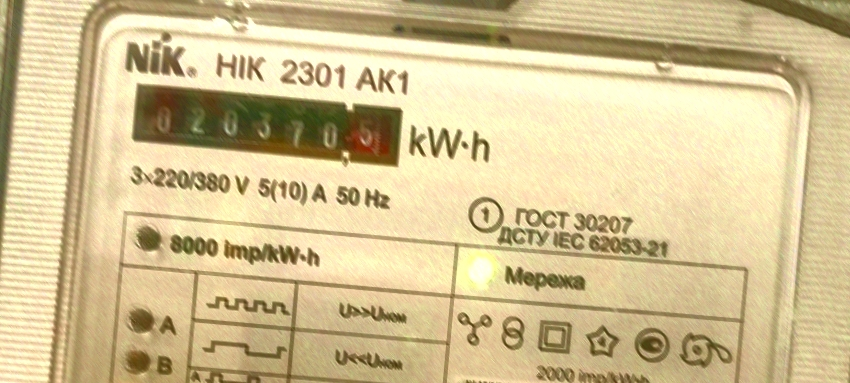0: (319, 119, 339, 150), (153, 102, 172, 132), (221, 106, 238, 135)
2: (186, 103, 207, 135)
3: (253, 108, 272, 139)
5: (355, 115, 376, 147)
7: (286, 117, 303, 148)
screen: (123, 75, 410, 175)
